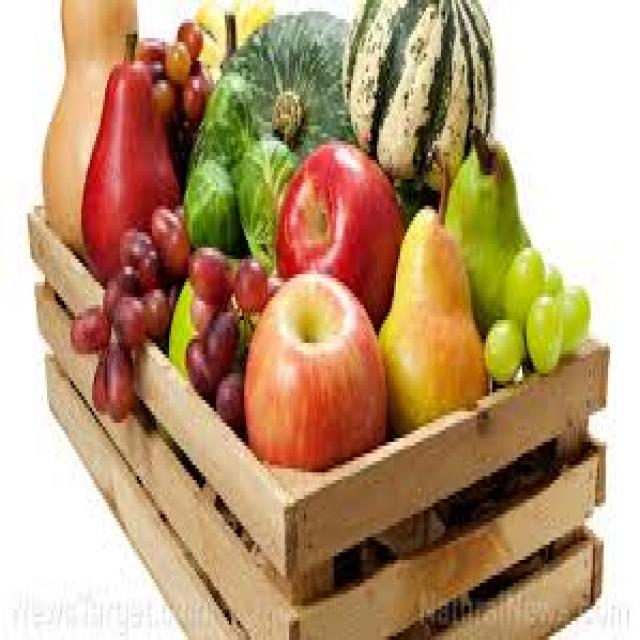organic waste: (242, 263, 385, 476), (340, 0, 494, 194), (81, 27, 182, 274), (274, 141, 405, 331), (376, 198, 484, 427), (41, 0, 139, 248), (218, 4, 354, 168), (441, 122, 529, 328), (236, 141, 294, 251), (197, 0, 274, 72), (202, 72, 250, 164), (182, 160, 233, 244), (503, 240, 544, 324), (524, 290, 561, 370), (482, 316, 522, 385), (165, 278, 195, 370), (148, 206, 184, 270), (205, 305, 238, 373), (186, 244, 227, 297), (558, 278, 586, 354), (109, 286, 146, 343), (118, 232, 158, 282), (105, 339, 130, 415), (232, 259, 266, 312), (180, 68, 208, 122), (71, 305, 109, 343), (100, 267, 132, 312), (139, 289, 163, 343), (216, 12, 236, 76), (152, 80, 175, 130), (90, 346, 107, 412), (184, 339, 210, 381), (139, 34, 165, 76), (163, 38, 188, 80), (216, 374, 240, 416), (541, 259, 561, 297), (188, 293, 210, 324), (180, 19, 199, 50)
